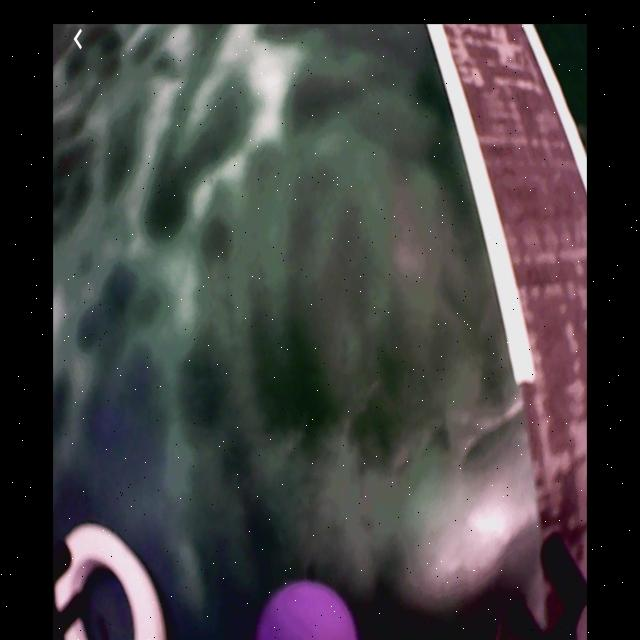ball: (256, 583, 360, 640)
